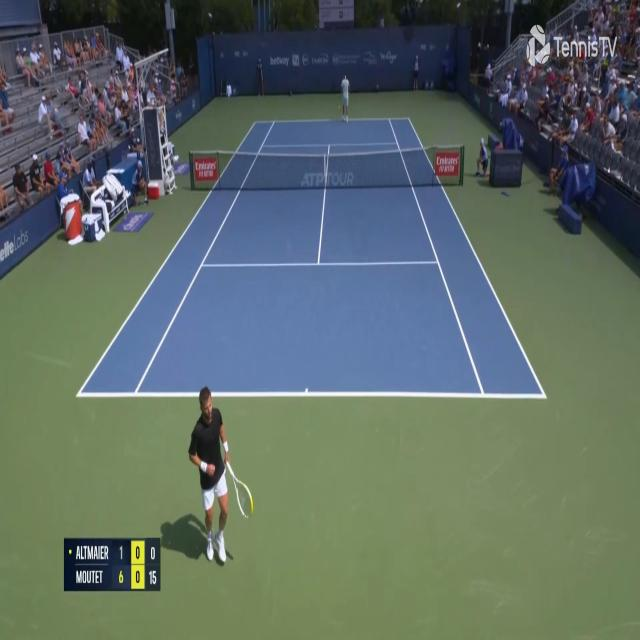tennis-player: (184, 379, 252, 569), (338, 73, 350, 123)
